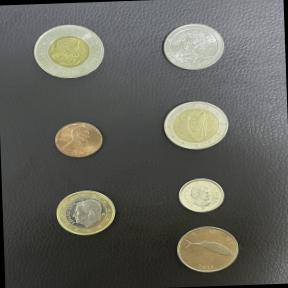1 Euro-B: (51, 184, 120, 243)
2 Euro-B: (157, 95, 232, 154)
Canada-10cent-B: (174, 174, 228, 216)
Canada-2Dollar-B: (27, 19, 111, 86)
Croatia-2Kune-B: (172, 223, 241, 276)
US-1cent-B: (50, 119, 106, 162)
US-25cent-B: (158, 19, 228, 72)
